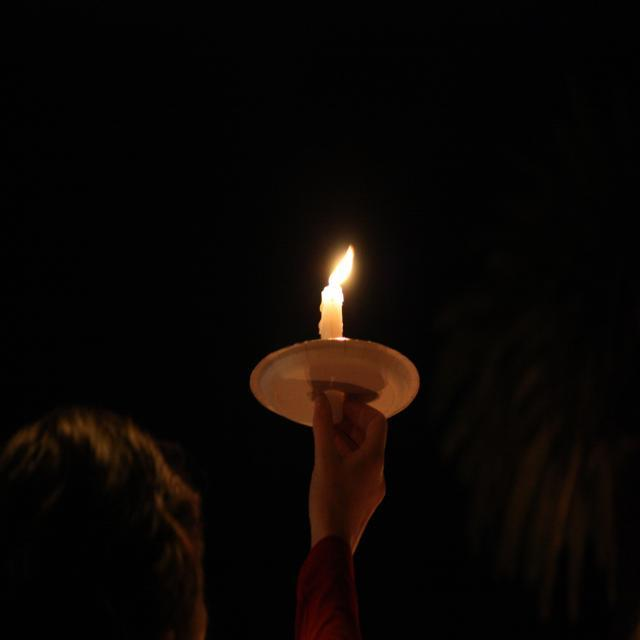Fire: (330, 250, 356, 288)
